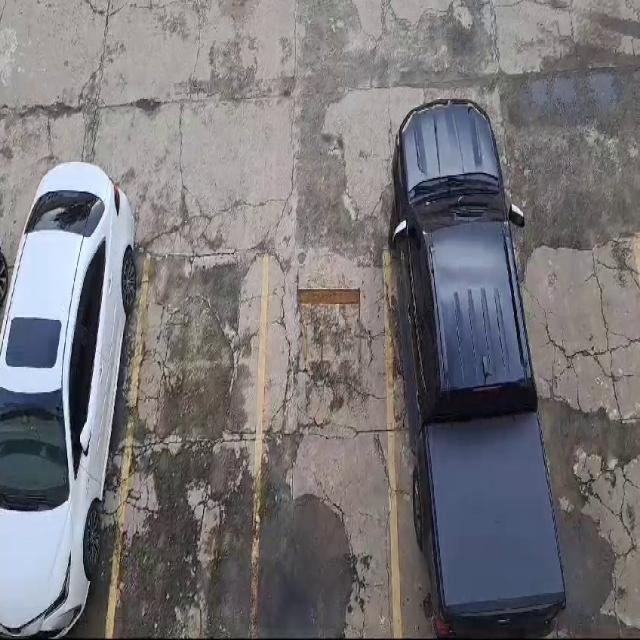empty: (109, 250, 265, 639), (252, 248, 396, 635), (511, 234, 639, 637)
notEmpty: (386, 224, 546, 639), (0, 245, 149, 639)
